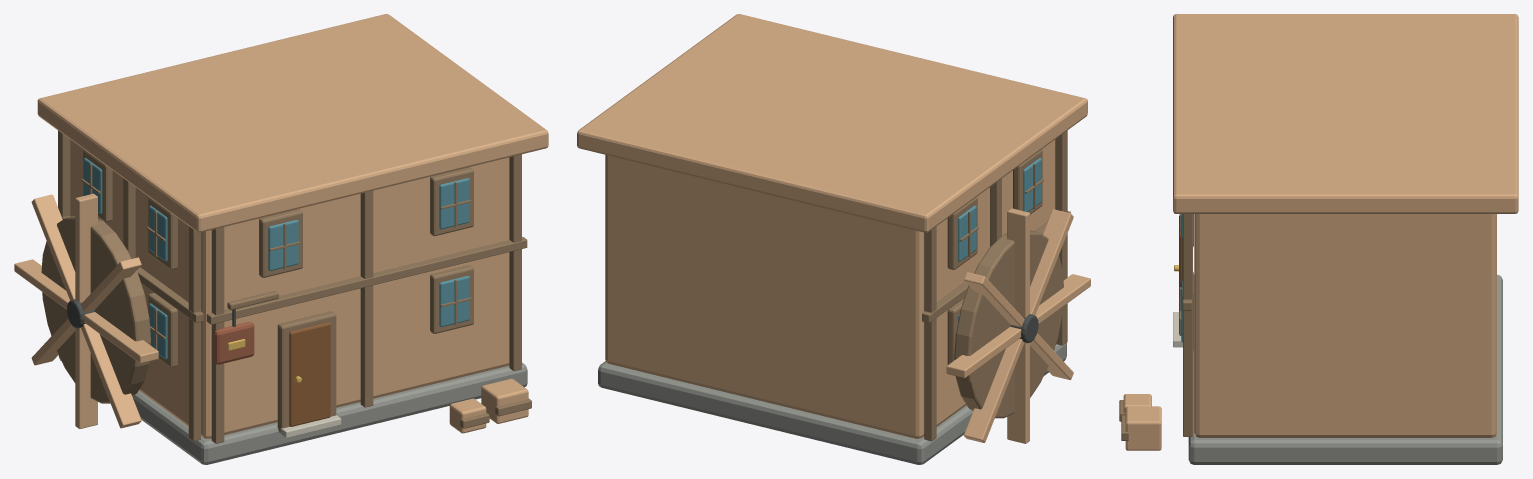
The model's file is arid-mill-0.glb.
3 renders of one model, left to right at view 1: azimuth 30°, elevation 25°; view 2: azimuth 150°, elevation 25°; view 3: azimuth 270°, elevation 25°, orthographic. The views are drawn at different scales.
Parts seen in each view (by area): view 1: Adobe cream, Adobe fieldstone, Palm beams, Adobe wood, Foundation stone, Blue glass, Door oak, Painted sign, Cut limestone; view 2: Adobe fieldstone, Adobe cream, Palm beams, Adobe wood, Foundation stone, Blue glass; view 3: Adobe cream, Adobe fieldstone, Foundation stone, Palm beams, Adobe wood.
Boxes of the visible parts, <box> form: Adobe cream: <box>37,14,548,232</box>; Adobe fieldstone: <box>70,139,509,438</box>; Palm beams: <box>41,130,531,443</box>; Adobe wood: <box>14,193,528,433</box>; Foundation stone: <box>58,355,527,464</box>; Blue glass: <box>83,158,469,359</box>; Door oak: <box>289,322,330,426</box>; Painted sign: <box>214,322,254,364</box>; Cut limestone: <box>276,415,341,437</box>; Adobe fieldstone: <box>605,139,1055,438</box>; Adobe cream: <box>577,14,1087,232</box>; Palm beams: <box>922,130,1070,441</box>; Adobe wood: <box>946,208,1090,443</box>; Foundation stone: <box>598,343,1066,464</box>; Blue glass: <box>958,158,1041,321</box>; Adobe cream: <box>1173,14,1518,213</box>; Adobe fieldstone: <box>1194,214,1496,437</box>; Foundation stone: <box>1188,274,1502,464</box>; Palm beams: <box>1119,214,1193,440</box>; Adobe wood: <box>1123,394,1161,450</box>.
Size of the model in its own units: 4.87 by 3.27 by 4.09.
